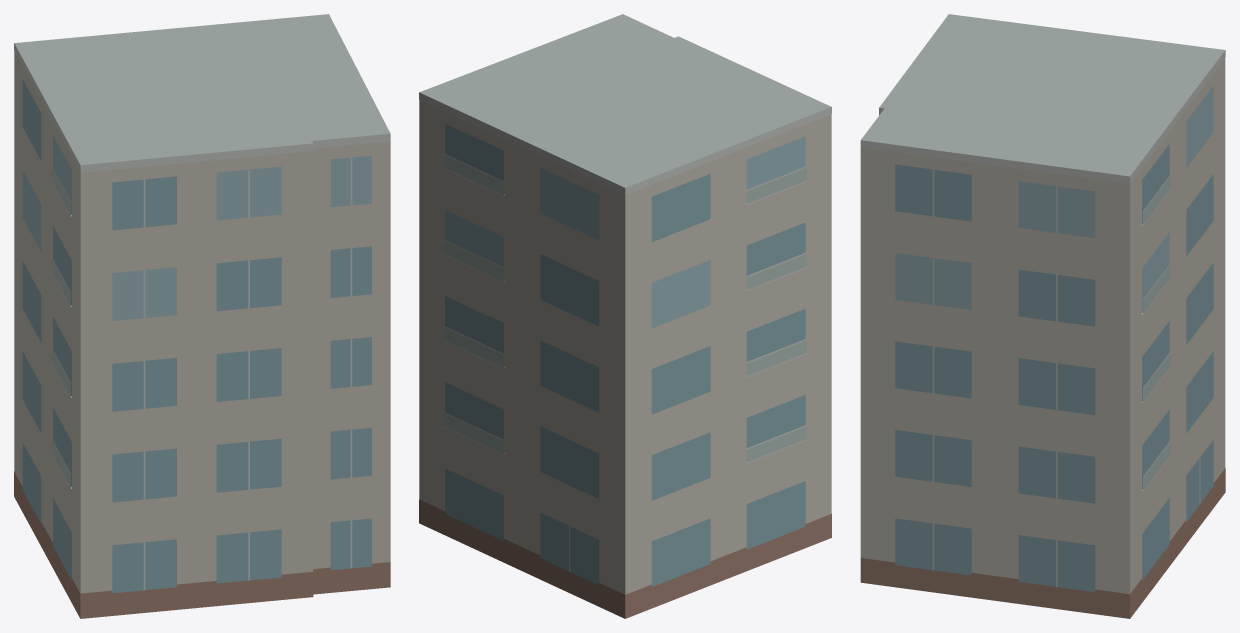
Rendered from survey-upis-33022425.glb.
3 views of the same model, side by side, from view 1: azimuth 30°, elevation 25°; view 2: azimuth 150°, elevation 25°; view 3: azimuth 270°, elevation 25° (orthographic). The views are drawn at different scales.
Visible parts, largest first — view 1: survey-upis-33022425.tmp; view 2: survey-upis-33022425.tmp; view 3: survey-upis-33022425.tmp.
Boxes of the visible parts, box(x1,y1,x2,y2) form: survey-upis-33022425.tmp: box(14, 14, 390, 618); survey-upis-33022425.tmp: box(419, 14, 831, 618); survey-upis-33022425.tmp: box(860, 14, 1225, 618).
Size of the model in its own units: 11.51 by 14.6 by 10.92.
